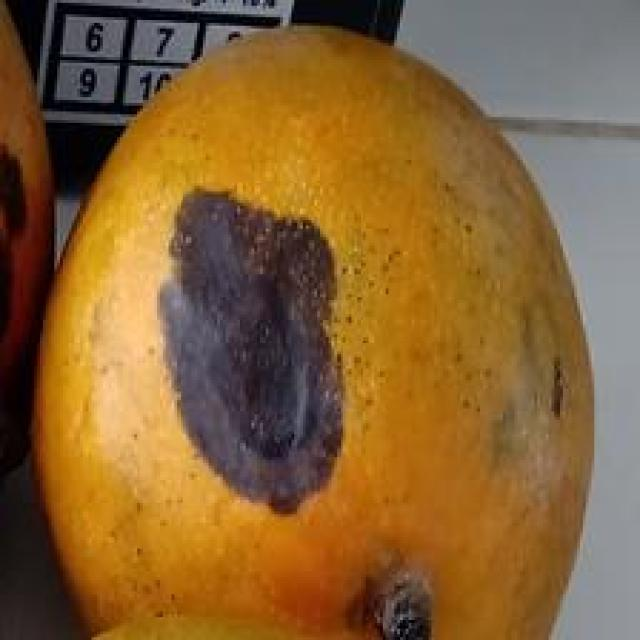Bad_Mango: (36, 28, 592, 639)
